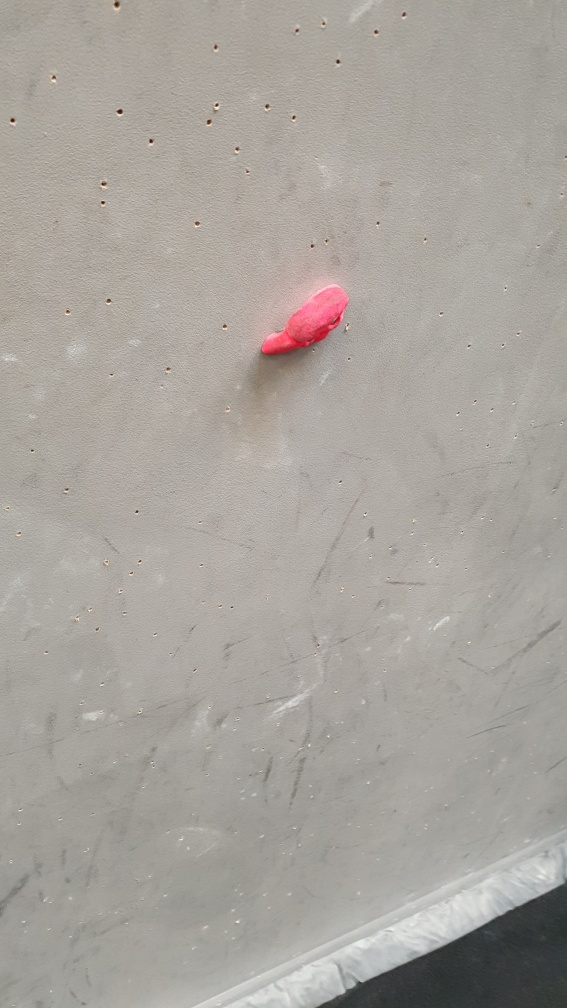Jug: (257, 280, 348, 362)
